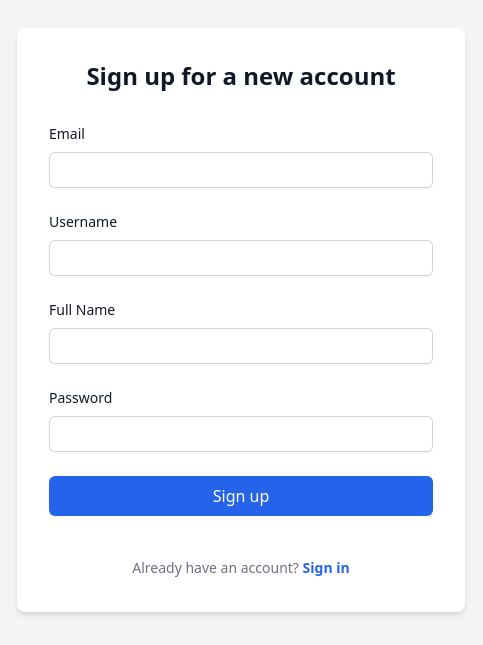
SignUp Component › should show error if user with such username already exist
The width and height of the screenshot is (483, 645).
Type "test@test.com" into the field labelled "Email" at (241, 170), box [49,152,433,188]
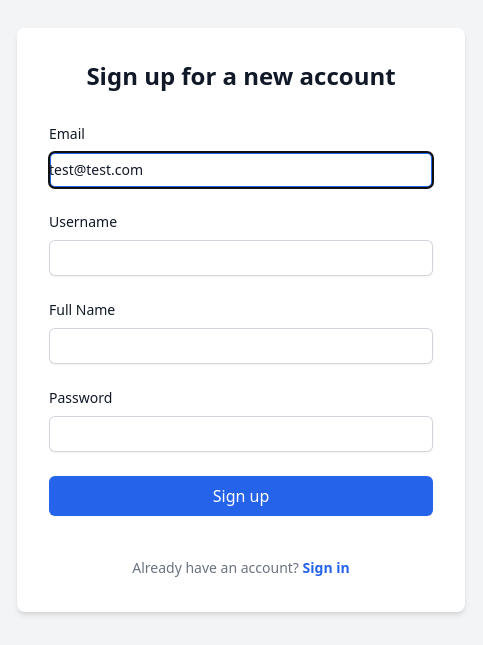
Type "testusername" into the field labelled "Username" at (241, 258), box [49,240,433,276]
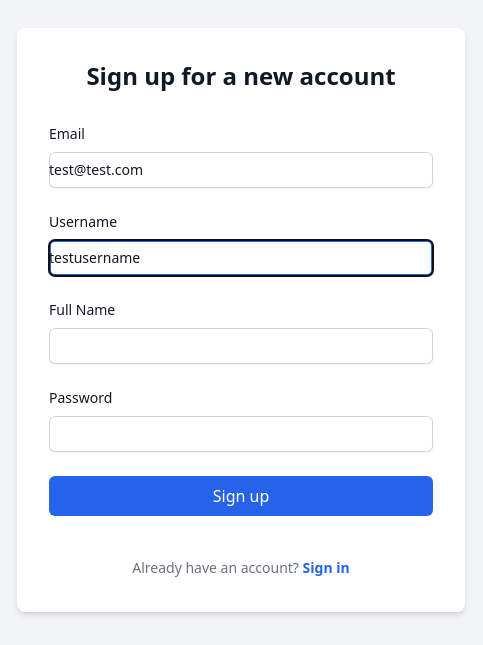
Type "Test User" into the field labelled "Full Name" at (241, 346), box [49,328,433,364]
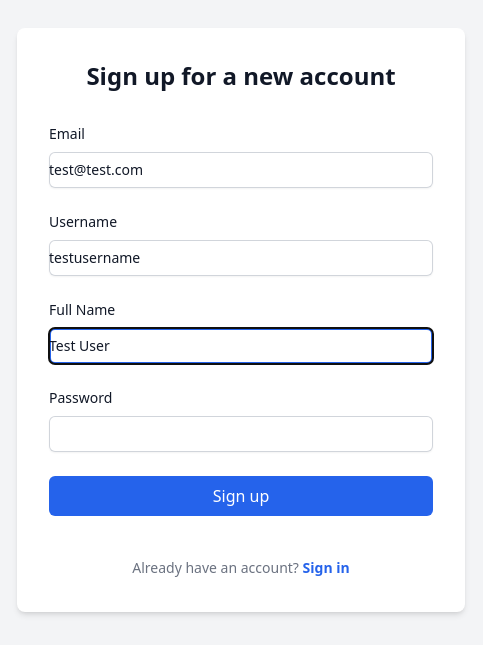
Type "password" into the password field labelled "Password" at (241, 434), box [49,416,433,452]
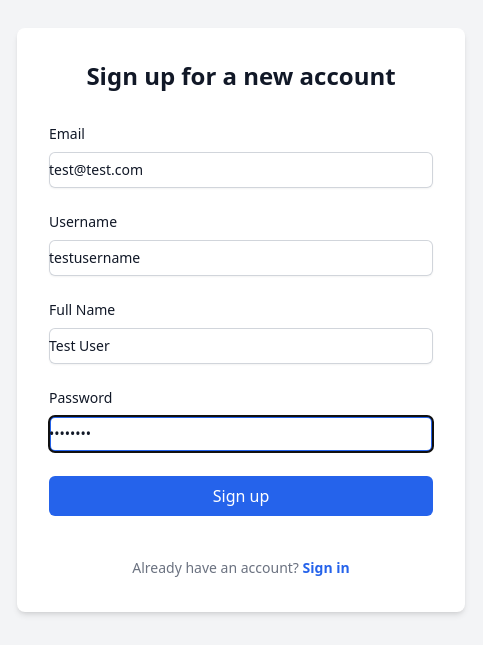
Click the button "Sign up" at (241, 496), box [49,476,433,516]
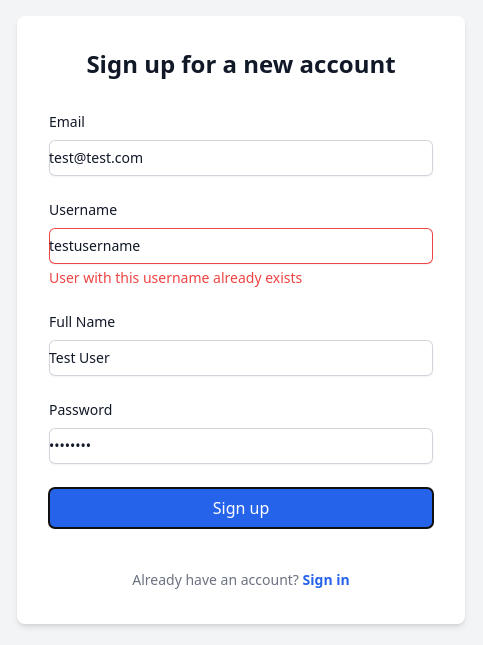
Check: the text "User with this username already exists" is shown, box [49,268,302,287]
